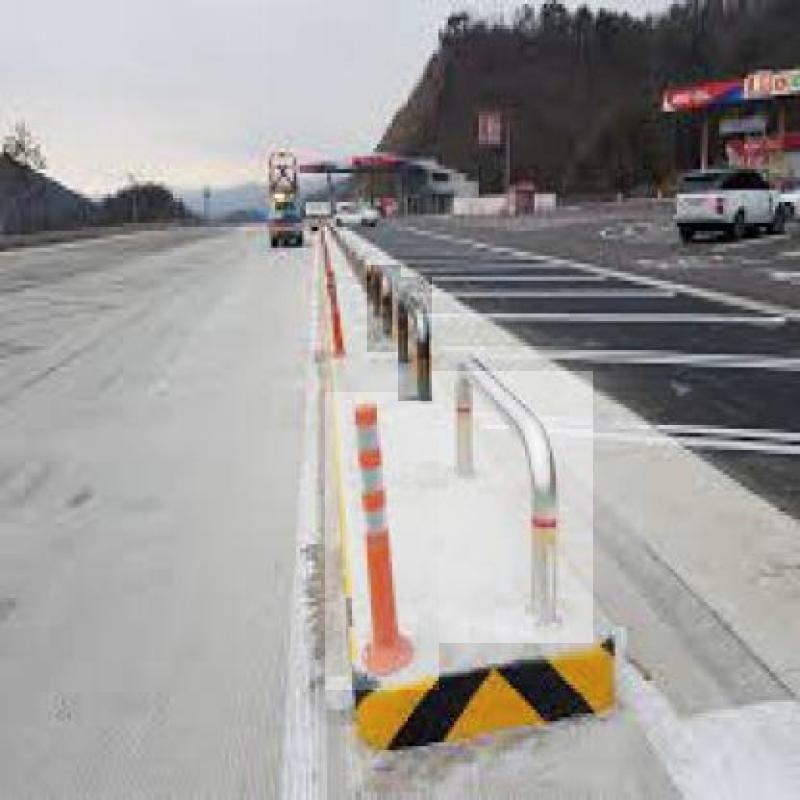bolard: (427, 371, 593, 643), (325, 392, 439, 690), (398, 277, 432, 401), (367, 265, 401, 352), (325, 298, 359, 352)
